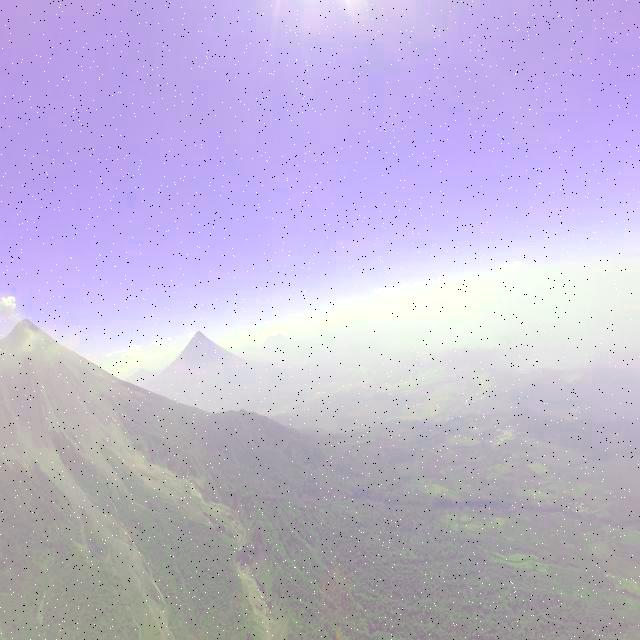Plume: (2, 294, 18, 318)
Summit: (8, 316, 45, 336)
